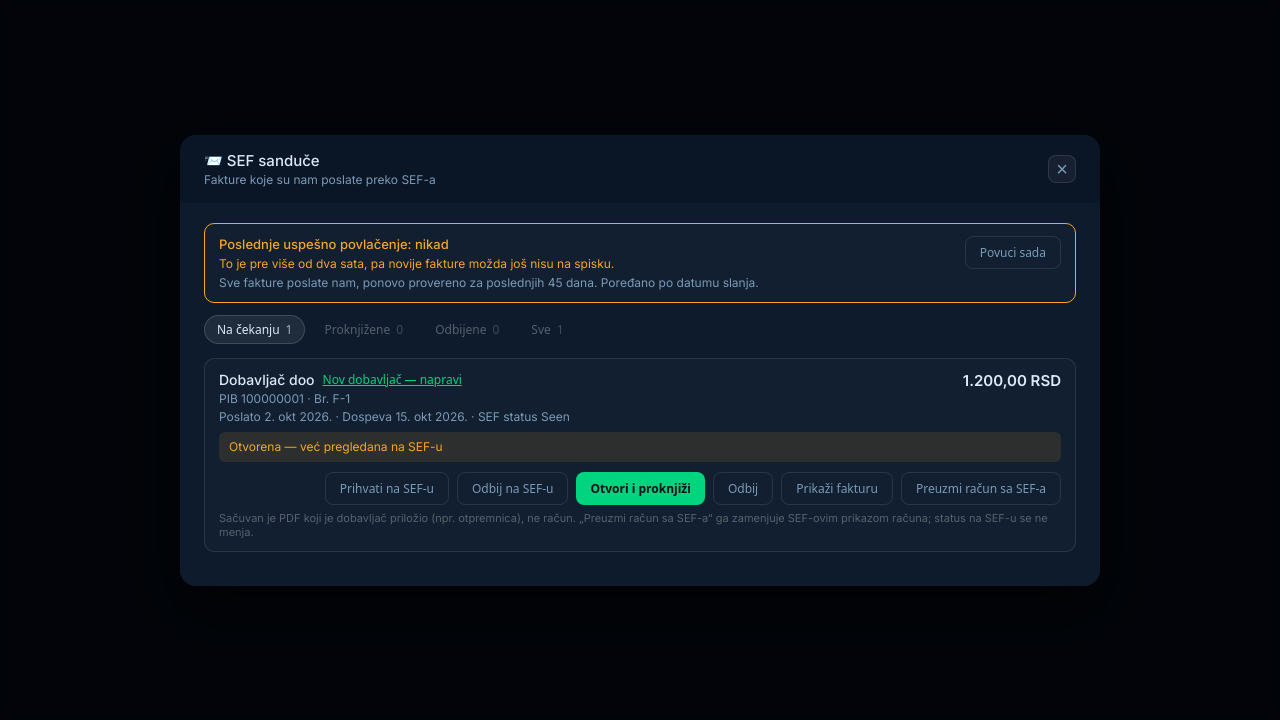
Test: repairing a row that kept the supplier’s attachment › asks the function once for the PDFs only, then shows the invoice
expect the text "Dobavljač doo" is shown: met, box [219,370,315,388]
Click the button "Preuzmi račun sa SEF-a". click: (981, 488)
box: [901,472,1061,504]
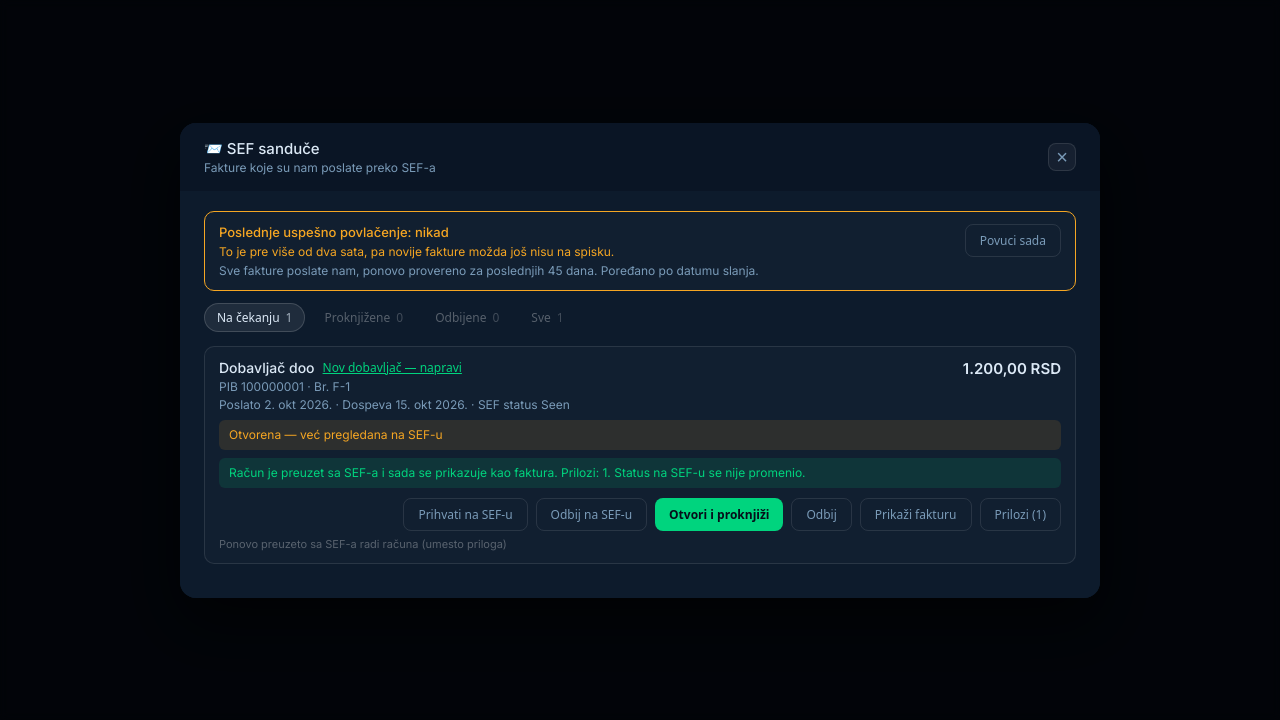
expect the message is shown: met, box [219,458,1061,488]
expect the message shows "Status na SEF-u se nije promenio": met, box [229,464,806,480]
expect the text "Ponovo preuzeto sa SEF-a radi računa (umesto priloga)" is shown: met, box [219,536,507,550]
